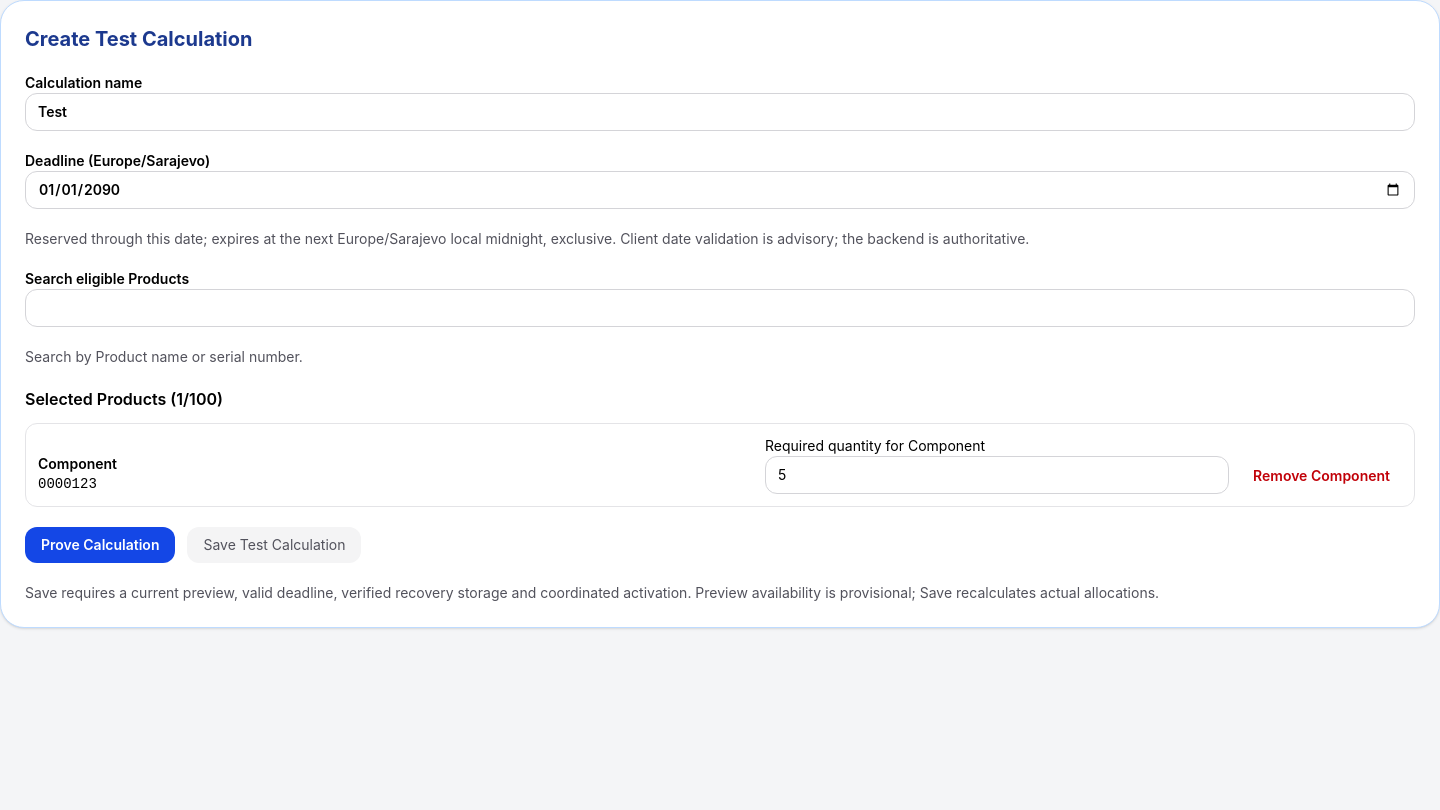
Test case: Prove Calculation editor integration (mock services only) › shows authoritative full/partial/zero availability 0 with exact payload
Click the button "Prove Calculation": {"x": 100, "y": 545} [25,527,176,563]
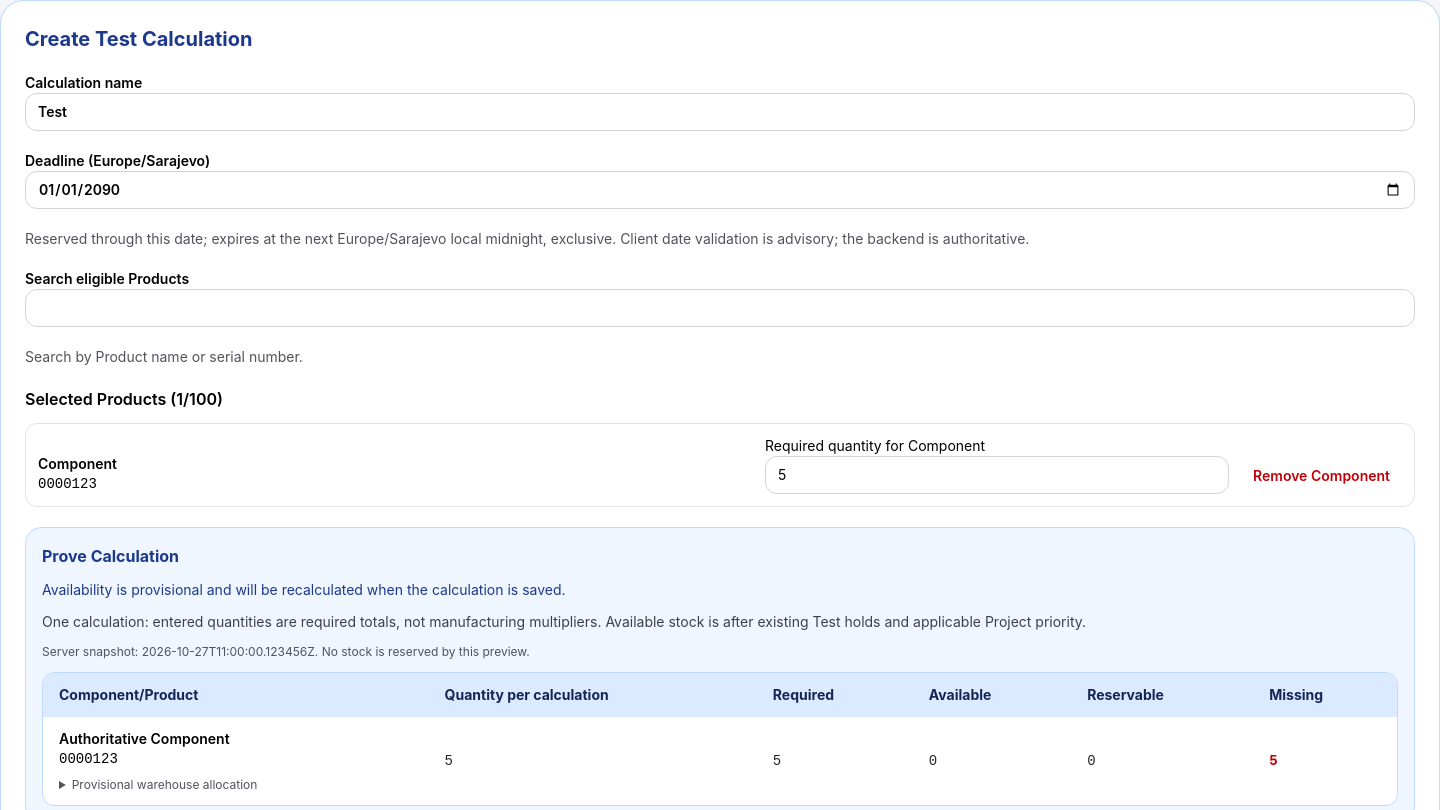
Expected: the column headings read "Component/Product", "Quantity per calculation", "Required", "Available", "Reservable", "Missing", in this order, [43,673,429,717]; [429,673,757,717]; [757,673,913,717]; [913,673,1071,717]; [1071,673,1253,717]; [1253,673,1397,717]
Expected: the element named "Test Calculation preview" shows "Availability is provisional and will be recalculated when the calculation is saved.", [42,581,566,598]
Expected: the element named "Test Calculation preview" shows "2026-10-27T11:00:00.123456Z", [142,644,315,659]
